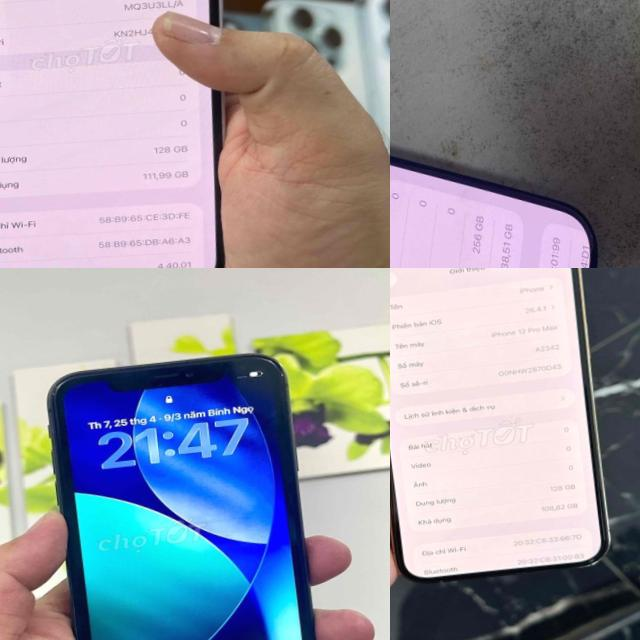gen_11: (42, 342, 338, 640)
gen_12_13: (390, 268, 631, 596)
gen_14: (0, 0, 241, 268)
gen_15: (390, 36, 622, 268)
